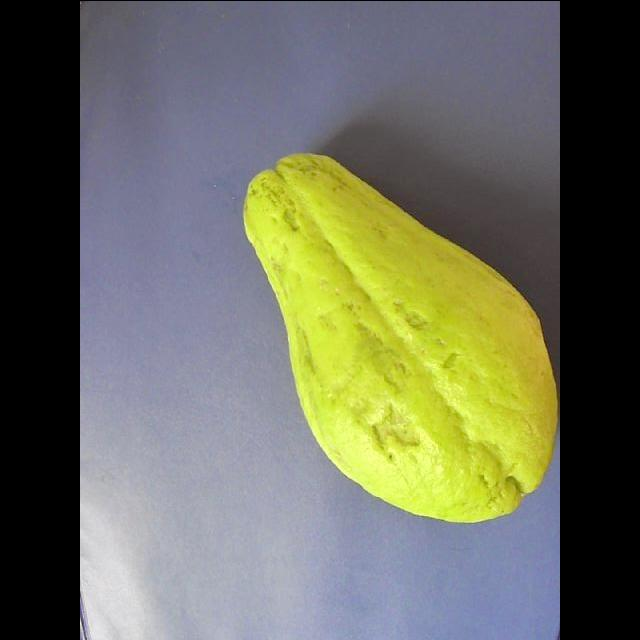chayote: (244, 152, 556, 521)
